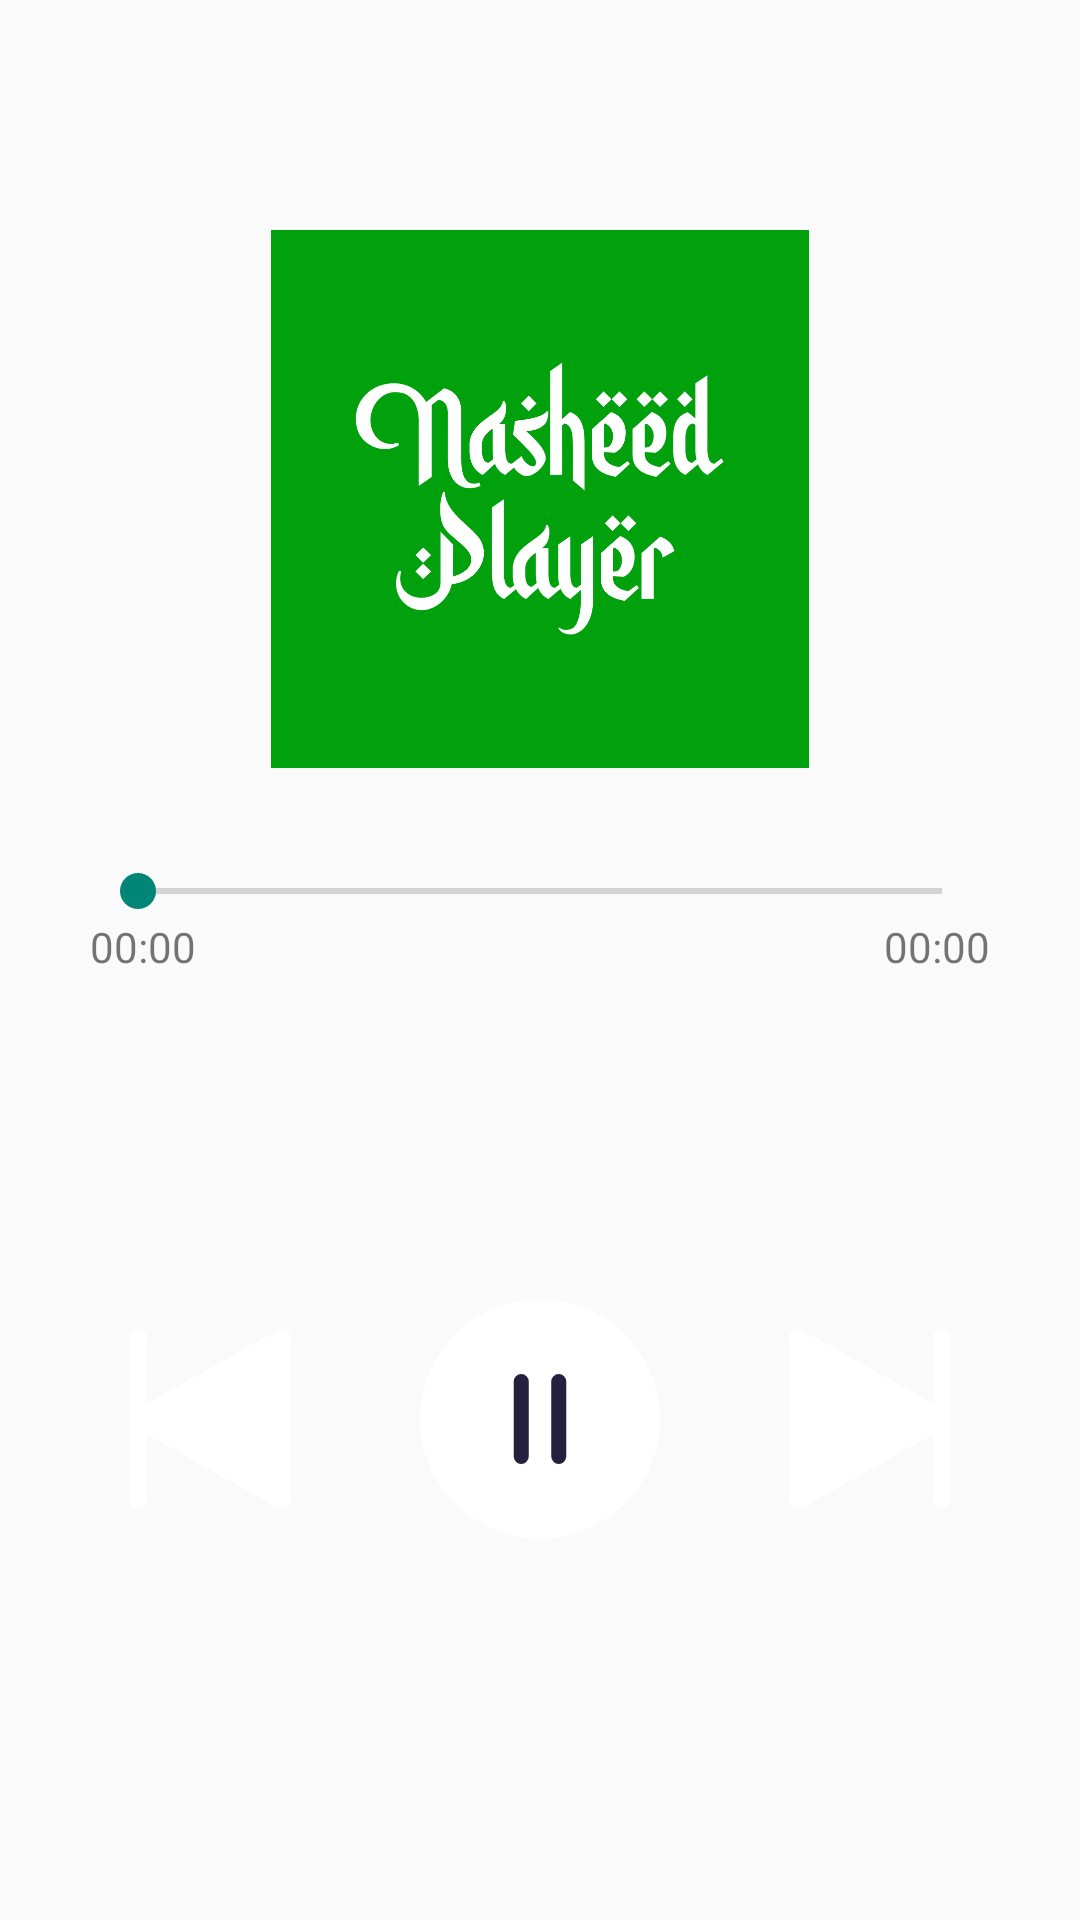

Icon bounding boxes for this 1080px x 1920px phone screenshot, format Rect(x1, y1, x2, y2):
pause: Rect(513, 1374, 567, 1464)
